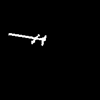double_crochet: (9, 33, 45, 45)
